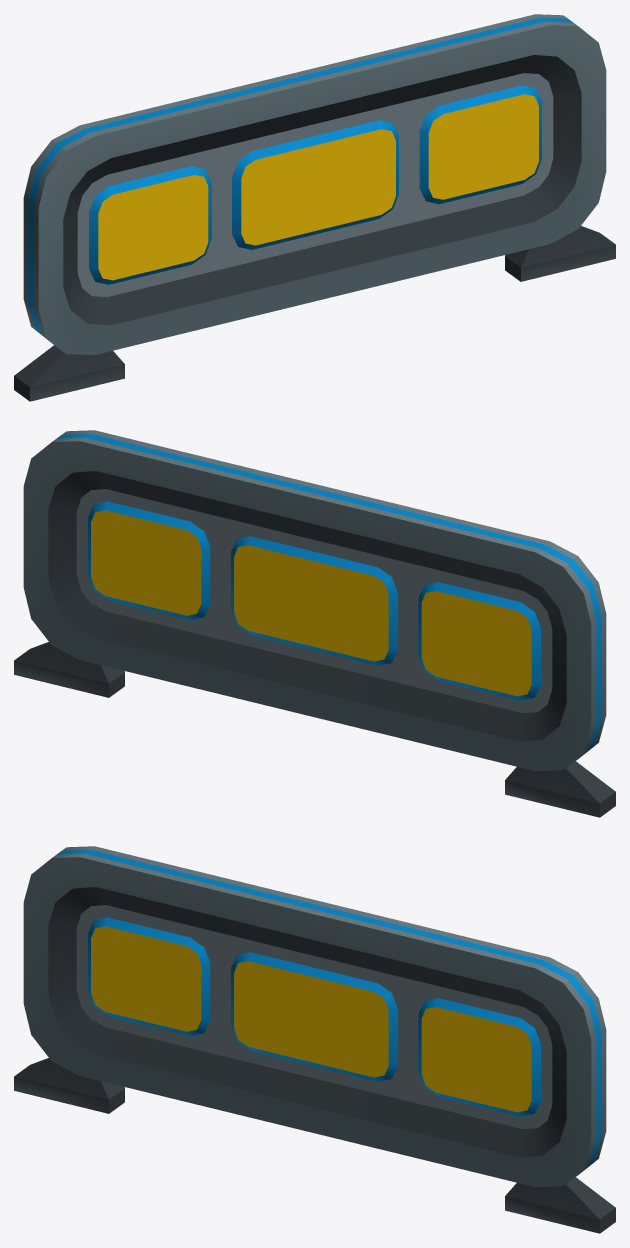
File: Fence_type_C_013.fbx
The picture shows the model from 3 angles, top to bottom: view 1: azimuth 30°, elevation 25°; view 2: azimuth 150°, elevation 25°; view 3: azimuth 330°, elevation 25°; orthographic projection.
Visible parts, largest first — view 1: Fence_type_C_013; view 2: Fence_type_C_013; view 3: Fence_type_C_013.
Boxes of the visible parts, box(x1,y1,x2,y2) form: Fence_type_C_013: box(14, 14, 615, 401); Fence_type_C_013: box(14, 430, 615, 817); Fence_type_C_013: box(14, 846, 615, 1233).
Size of the model in its own units: 348 by 16.53 by 141.
